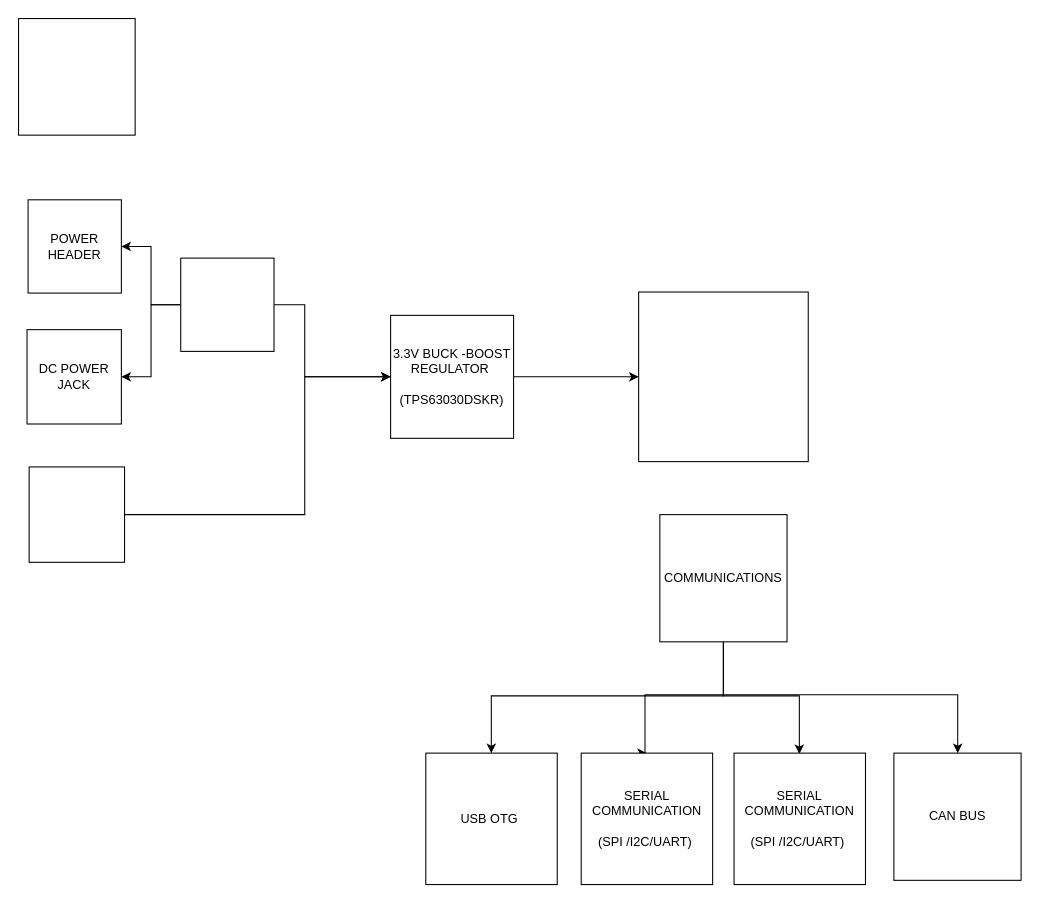
This 1040x903 diagram has some shape labels left out. The shapes that lost their labels are listed below. From the top down, each one's centre as x and y in pixels, then its label:
(x=76, y=76): INPUT POWER
(x=227, y=304): 12V-5V LDO
(x=723, y=376): STM32F105RBT6
(x=76, y=514): Li-Ion Battery
